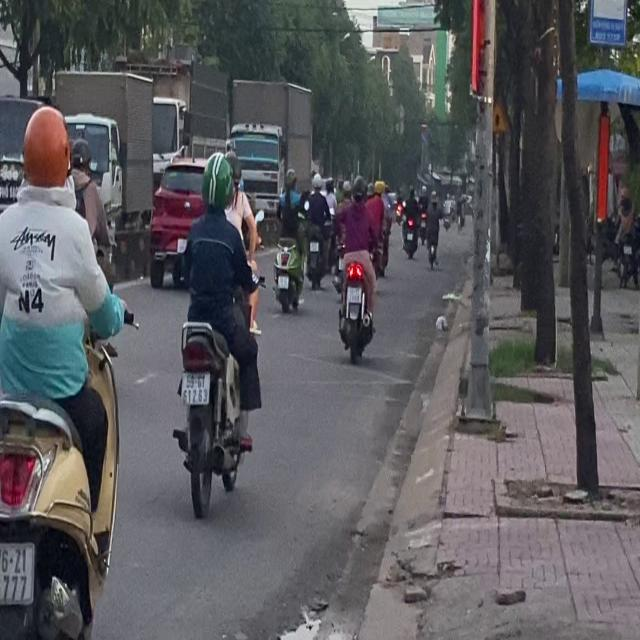helmet: (20, 104, 71, 196), (199, 150, 232, 212), (69, 134, 92, 178)
licenseplate: (0, 101, 131, 640), (170, 145, 264, 518)
nohelmet: (182, 372, 210, 402)
